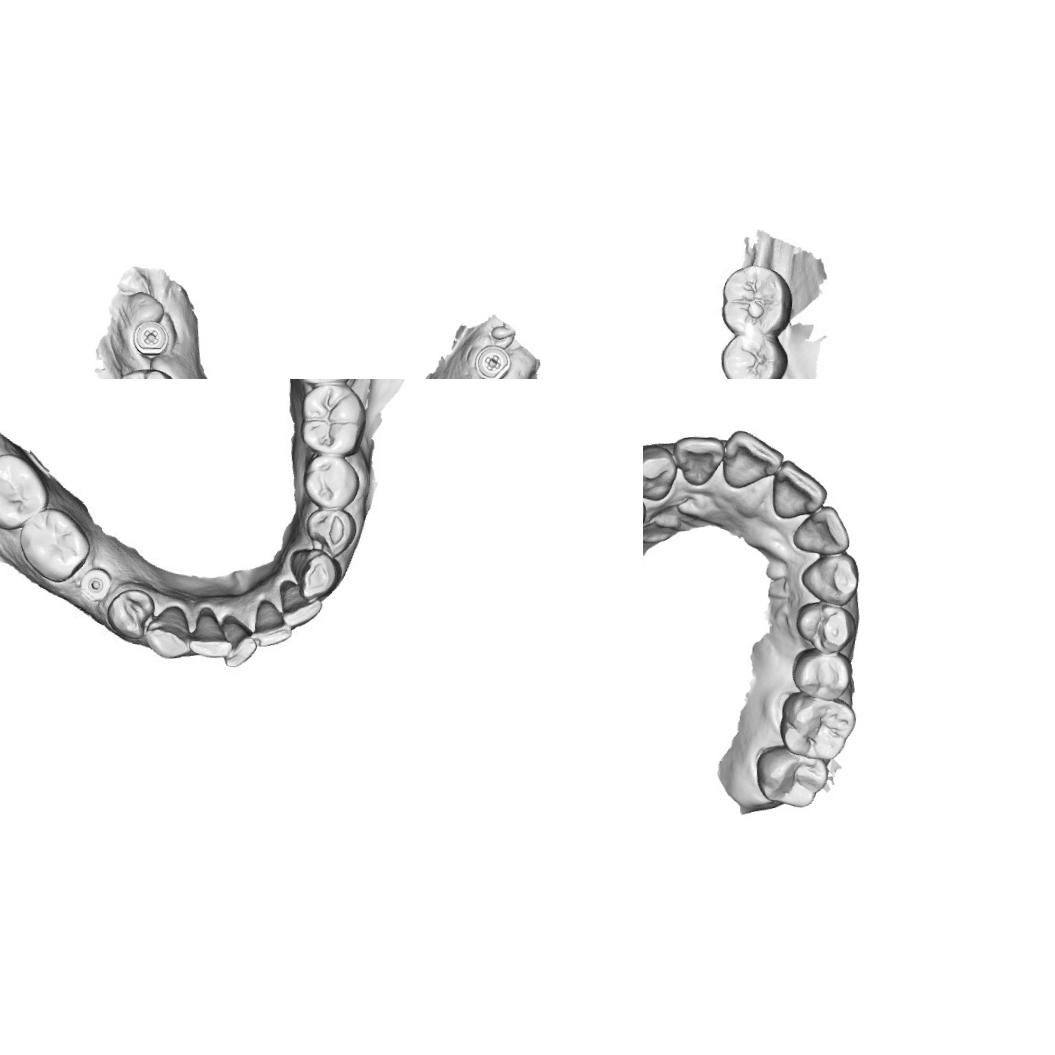canine: (796, 547, 863, 608), (142, 603, 195, 661), (288, 544, 340, 600), (643, 438, 679, 502)
implant: (76, 568, 112, 606)
implant_plus: (128, 317, 171, 356), (471, 341, 511, 379)
incisor: (718, 426, 787, 492), (768, 454, 830, 524), (790, 500, 855, 558), (671, 432, 726, 488), (186, 607, 233, 663), (248, 599, 294, 651), (218, 616, 260, 672), (277, 581, 323, 630)
molar: (774, 689, 858, 765), (15, 505, 91, 584), (295, 379, 367, 457), (751, 742, 830, 811), (720, 263, 791, 334), (0, 450, 51, 530)
premolar: (790, 599, 858, 654), (301, 452, 363, 512), (788, 648, 855, 701), (719, 331, 788, 379), (105, 584, 154, 643), (302, 504, 356, 556)
